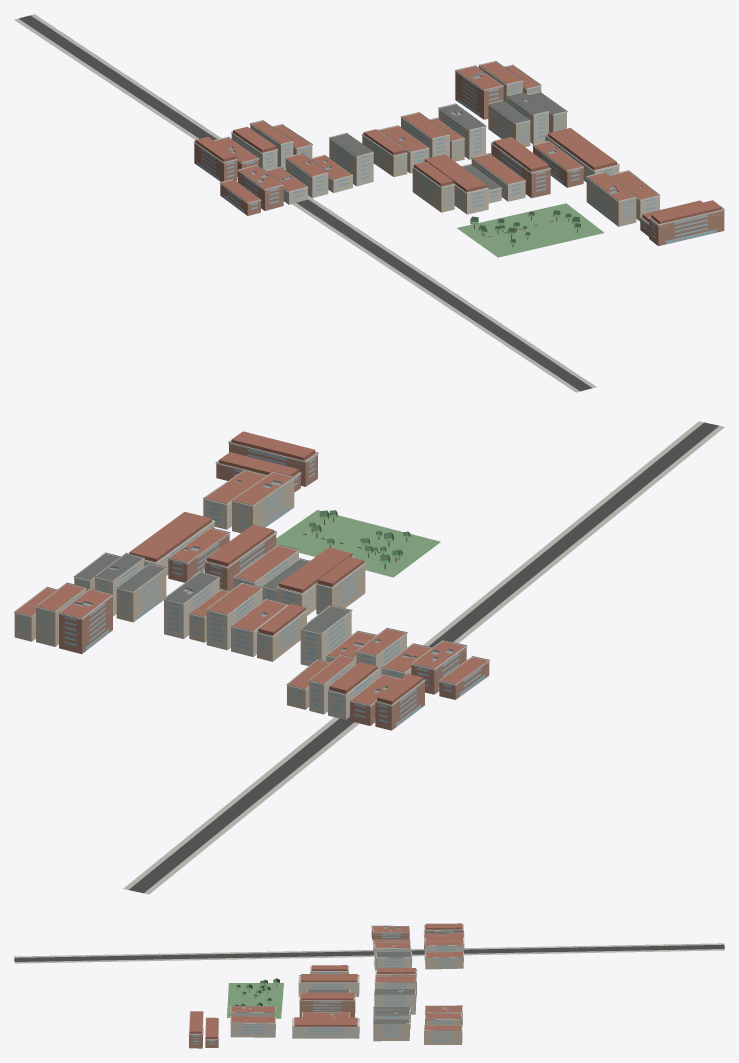
The model's file is tile-m001-p001.glb.
3 renders of one model, top to bottom at view 1: azimuth 30°, elevation 25°; view 2: azimuth 150°, elevation 25°; view 3: azimuth 270°, elevation 25°, orthographic. The views are drawn at different scales.
Visible parts, largest first — view 1: road-radial-0-1-mesh-1, road-radial-0-1-mesh-0, neighborhood-park-block-124-mesh-2, building-0596-mesh-122, building-0603-mesh-155, building-0598-mesh-134, building-0611-mesh-174, building-0530-mesh-68, building-0531-mesh-76, building-0470-mesh-36, building-0534-mesh-89, building-0534-mesh-92 (+14 smaller); view 2: road-radial-0-1-mesh-1, road-radial-0-1-mesh-0, neighborhood-park-block-124-mesh-2, building-0603-mesh-155, building-0611-mesh-174, building-0598-mesh-134, building-0531-mesh-76, building-0606-mesh-158, building-0470-mesh-36, building-0534-mesh-92, building-0530-mesh-68, building-0539-mesh-116 (+16 smaller); view 3: road-radial-0-1-mesh-1, road-radial-0-1-mesh-0, neighborhood-park-block-124-mesh-2, building-0603-mesh-152, building-0534-mesh-89, building-0603-mesh-155, building-0599-mesh-140, building-0608-mesh-169, building-0531-mesh-73, building-0539-mesh-116, building-0613-mesh-185, building-0531-mesh-76 (+19 smaller).
Boxes of the visible parts, box(x1,y1,x2,y2) form: road-radial-0-1-mesh-1: box(18, 15, 592, 391); road-radial-0-1-mesh-0: box(14, 14, 596, 392); neighborhood-park-block-124-mesh-2: box(457, 203, 604, 257); building-0596-mesh-122: box(649, 208, 724, 246); building-0603-mesh-155: box(547, 128, 616, 170); building-0598-mesh-134: box(586, 178, 636, 226); building-0611-mesh-174: box(455, 71, 503, 119); building-0530-mesh-68: box(412, 167, 454, 212); building-0531-mesh-76: box(424, 154, 486, 192); building-0470-mesh-36: box(329, 138, 373, 186); building-0534-mesh-89: box(491, 143, 550, 198); building-0534-mesh-92: box(493, 137, 548, 171); road-radial-0-1-mesh-1: box(129, 422, 719, 893); road-radial-0-1-mesh-0: box(123, 421, 724, 894); neighborhood-park-block-124-mesh-2: box(276, 510, 440, 577); building-0603-mesh-155: box(129, 512, 211, 562); building-0611-mesh-174: box(59, 595, 112, 654); building-0598-mesh-134: box(232, 478, 294, 533); building-0531-mesh-76: box(279, 547, 352, 592); building-0606-mesh-158: box(116, 569, 166, 622); building-0470-mesh-36: box(300, 611, 351, 665); building-0534-mesh-92: box(207, 524, 274, 566); building-0530-mesh-68: box(316, 564, 365, 614); building-0539-mesh-116: box(164, 578, 219, 638); road-radial-0-1-mesh-1: box(14, 944, 724, 961); road-radial-0-1-mesh-0: box(14, 943, 724, 963); neighborhood-park-block-124-mesh-2: box(227, 982, 283, 1018); building-0603-mesh-152: box(292, 1019, 359, 1038); building-0534-mesh-89: box(299, 994, 355, 1017); building-0603-mesh-155: box(294, 1017, 357, 1026); building-0599-mesh-140: box(230, 1016, 275, 1037); building-0608-mesh-169: box(373, 1020, 409, 1041); building-0531-mesh-73: box(298, 975, 359, 996); building-0539-mesh-116: box(374, 989, 415, 1014); building-0613-mesh-185: box(424, 1026, 462, 1044); building-0531-mesh-76: box(300, 974, 357, 982).
Bounding box in the file's own units: 270 × 23.53 × 711.
